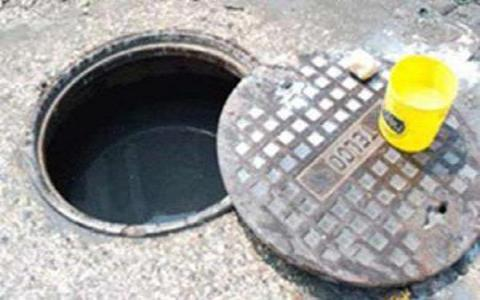open manhole: (17, 19, 270, 268)
